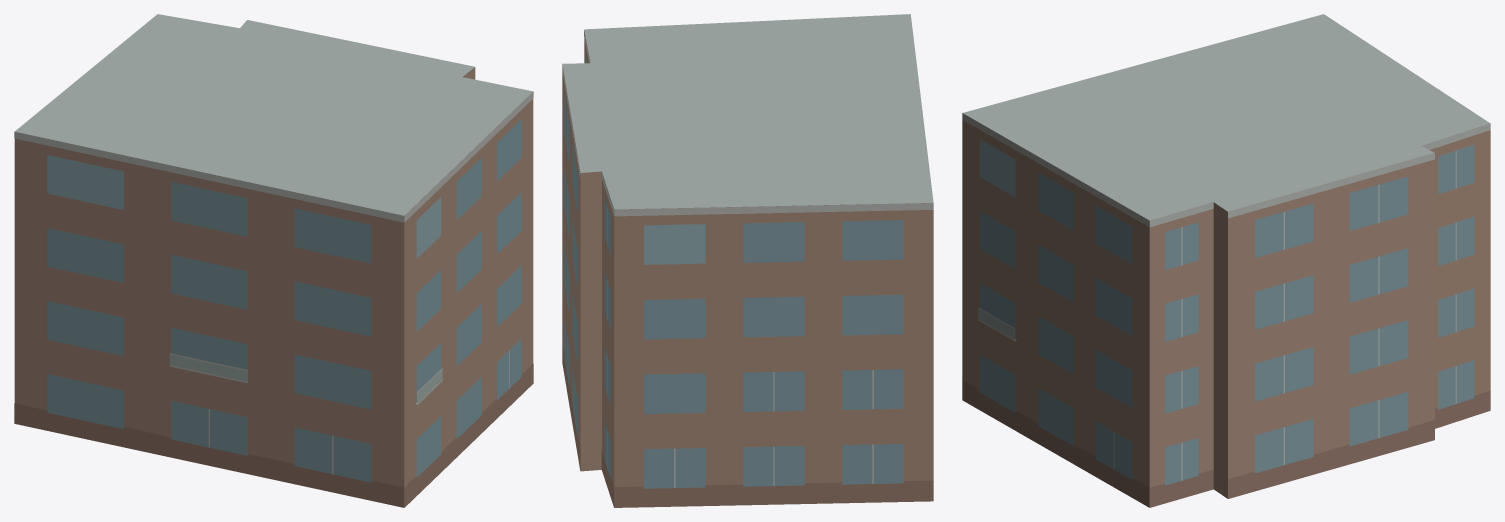
The model's file is survey-upis-32969760.glb.
3 views of the same model, side by side, from view 1: azimuth 30°, elevation 25°; view 2: azimuth 150°, elevation 25°; view 3: azimuth 270°, elevation 25° (orthographic). The views are drawn at different scales.
Parts seen in each view (by area): view 1: survey-upis-32969760.tmp; view 2: survey-upis-32969760.tmp; view 3: survey-upis-32969760.tmp.
Part boxes in pixels (x1,y1,x2,y2): survey-upis-32969760.tmp: (14, 14, 533, 507); survey-upis-32969760.tmp: (562, 14, 933, 507); survey-upis-32969760.tmp: (962, 14, 1490, 507).
Size of the model in its own units: 16.13 by 10.45 by 17.42.
